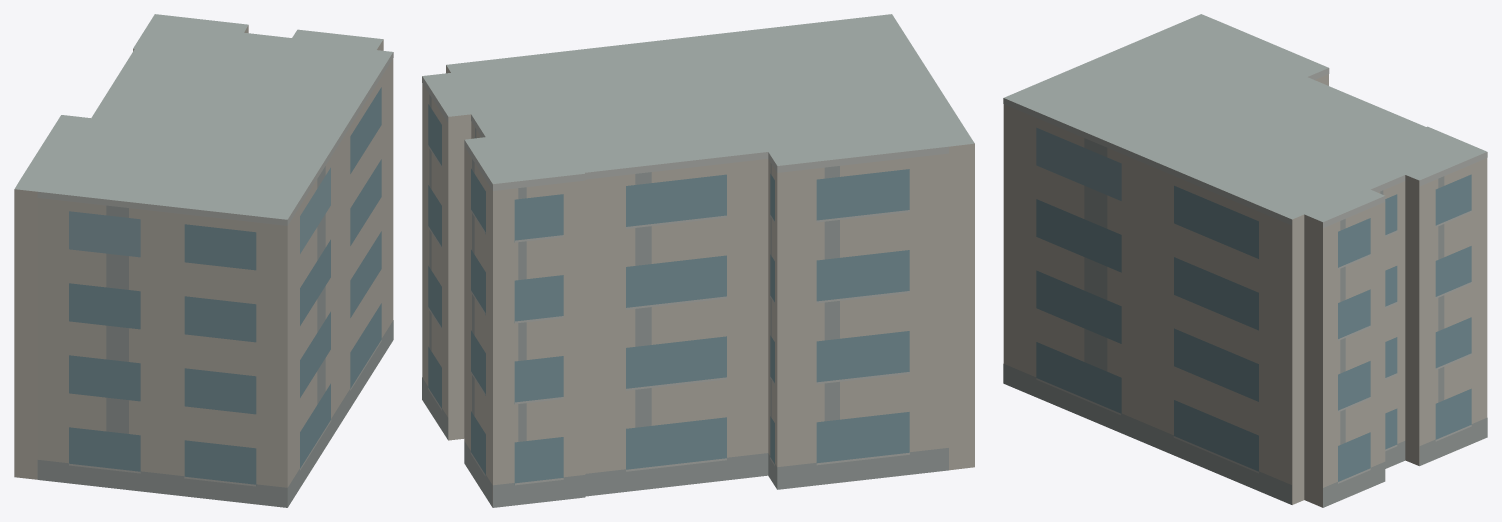
The model's file is residential-035cb0fd-6c2f-49c8-9455-383068faccd7.glb.
3 renders of one model, left to right at view 1: azimuth 30°, elevation 25°; view 2: azimuth 150°, elevation 25°; view 3: azimuth 270°, elevation 25°, orthographic. The views are drawn at different scales.
Parts seen in each view (by area): view 1: residential-035cb0fd-6c2f-49c8-9455-383068faccd7.tmp; view 2: residential-035cb0fd-6c2f-49c8-9455-383068faccd7.tmp; view 3: residential-035cb0fd-6c2f-49c8-9455-383068faccd7.tmp.
Part boxes in pixels (bbox=[...]): residential-035cb0fd-6c2f-49c8-9455-383068faccd7.tmp: bbox=[14, 14, 393, 507]; residential-035cb0fd-6c2f-49c8-9455-383068faccd7.tmp: bbox=[422, 14, 974, 507]; residential-035cb0fd-6c2f-49c8-9455-383068faccd7.tmp: bbox=[1003, 14, 1487, 507].
Bounding box in the file's own units: 17.99 × 11.5 × 17.66.
